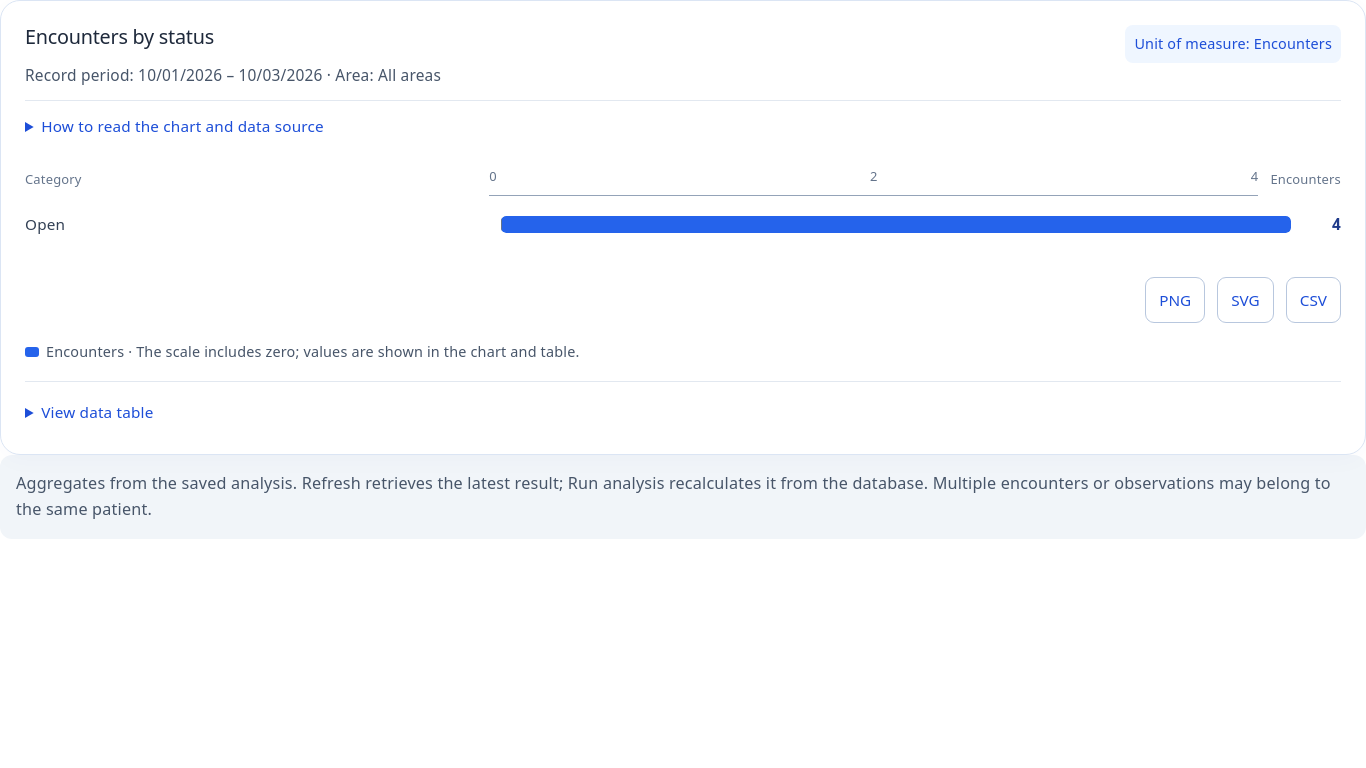
Test case: keeps units explicit and makes supporting text optional in en
Expected: the text "Unit of measure: Encounters" is shown, [1125, 25, 1341, 63]
Click the heading "How to read the chart and data source": (182, 126) [41, 116, 324, 136]
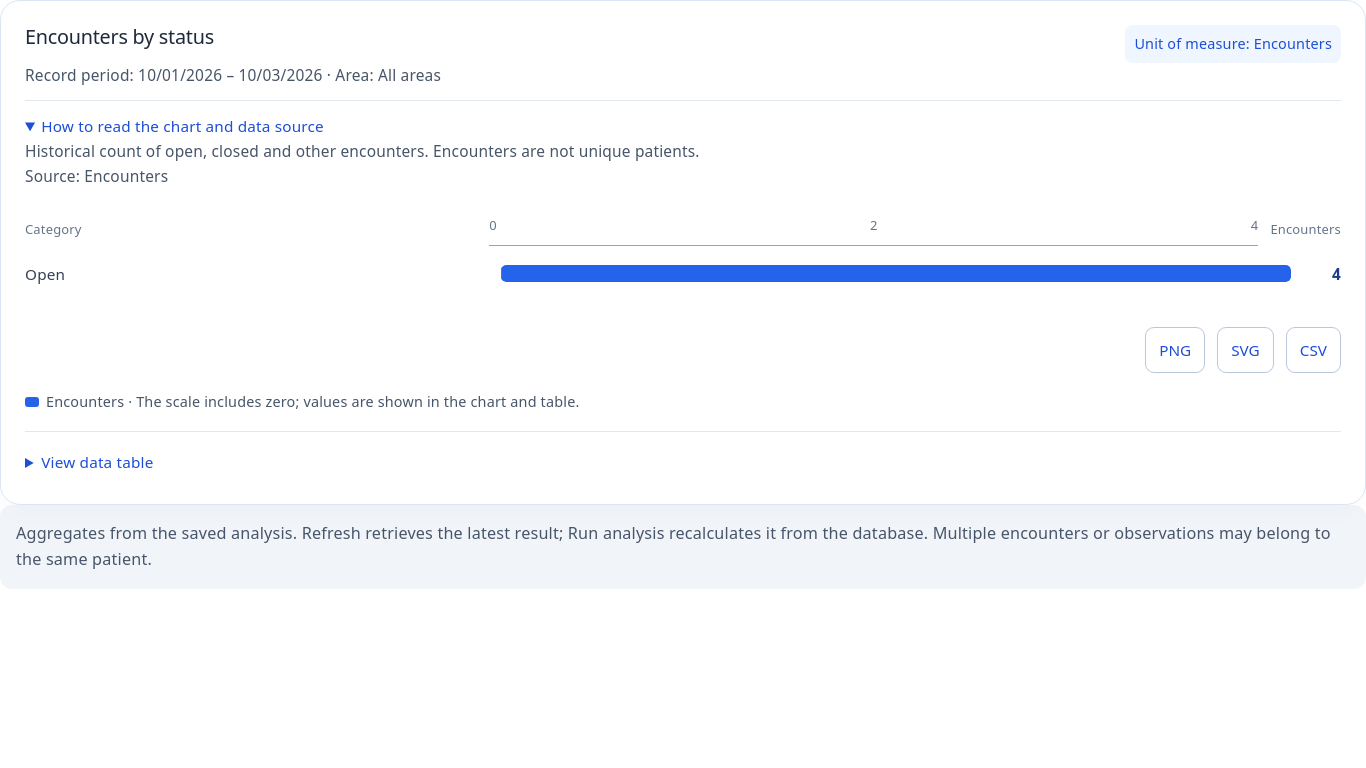
Now the text "Source: Encounters" is shown, box [25, 165, 168, 187]
